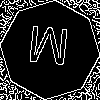M: (25, 25, 71, 75)
